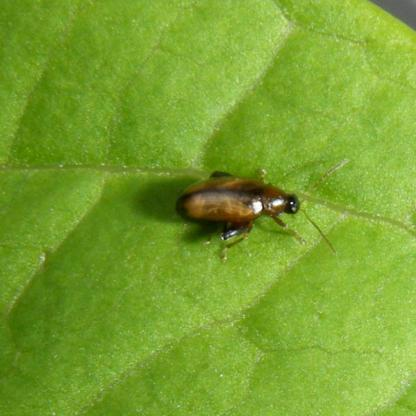beetle: (176, 157, 347, 257)
